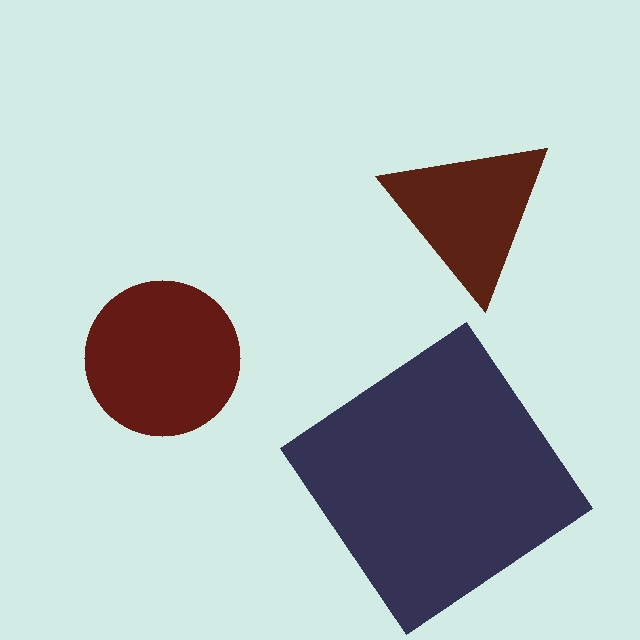circle: (84, 280, 240, 436)
square: (279, 321, 593, 635)
triangle: (375, 148, 548, 312)
